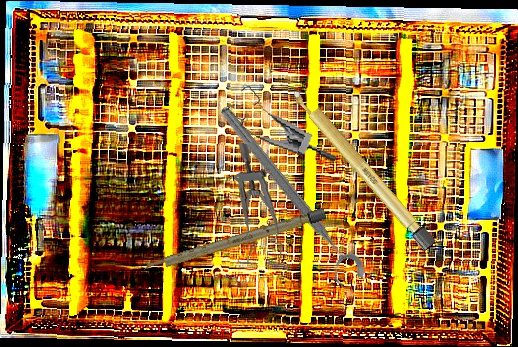Fixation Ring: (205, 101, 371, 294)
Scalpel Handle: (287, 83, 438, 252), (142, 207, 327, 275)
Speculum: (220, 81, 347, 164), (226, 142, 292, 268)
